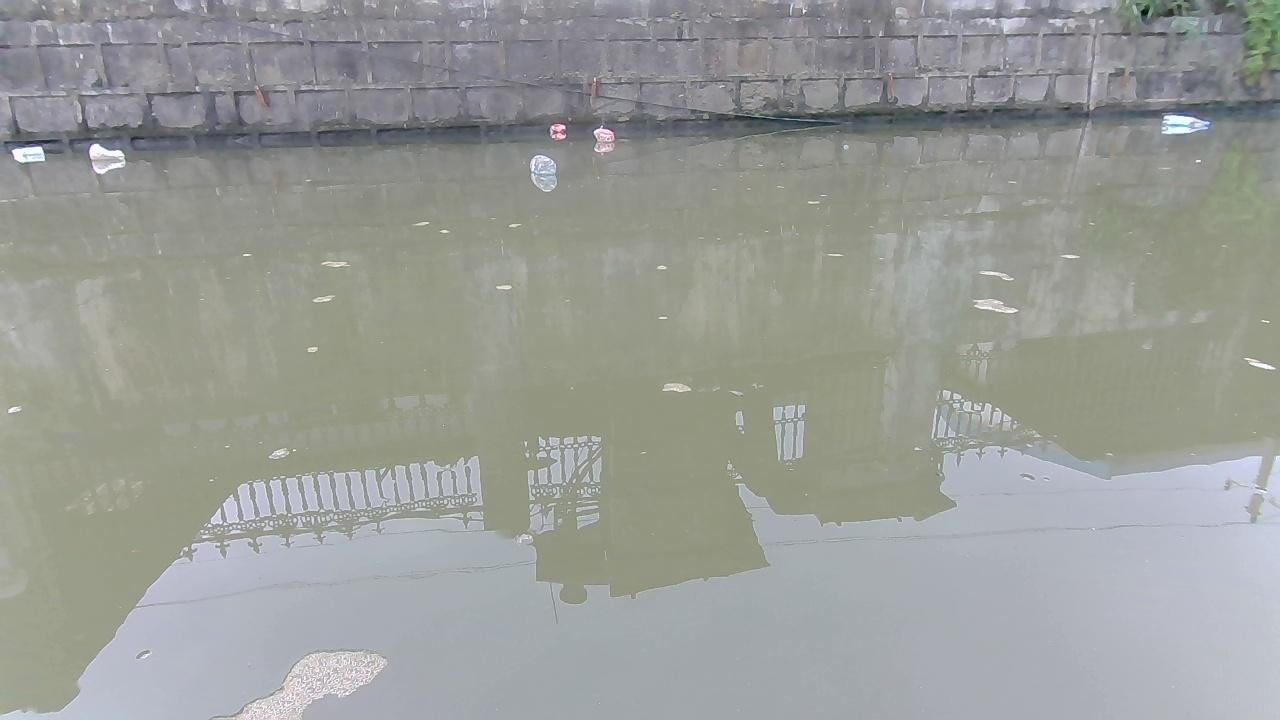bottle: (86, 143, 126, 162), (1162, 116, 1208, 132), (529, 155, 560, 176), (11, 147, 42, 163), (591, 128, 617, 146), (549, 117, 565, 136)
